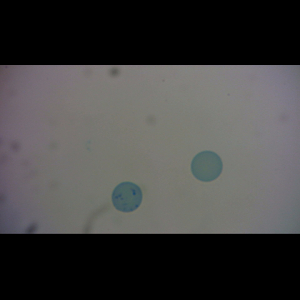aggregate reticulocyte: (111, 181, 144, 214)
erythrocyte: (189, 149, 224, 183)
